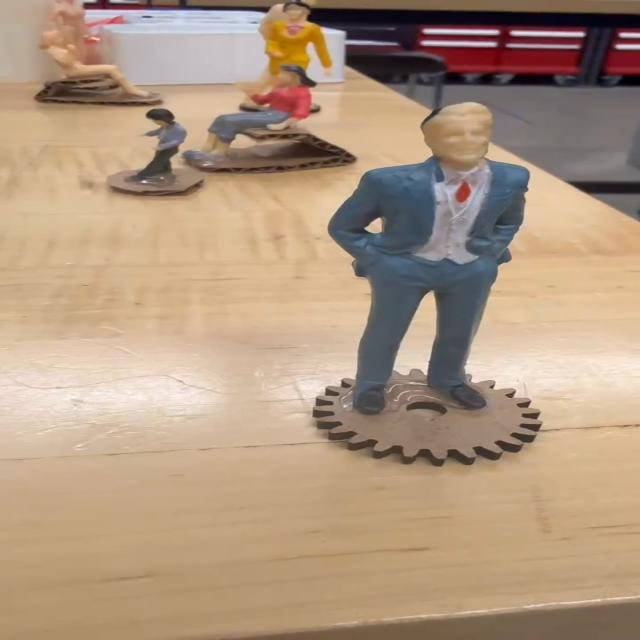Authorized: (319, 101, 531, 416)
